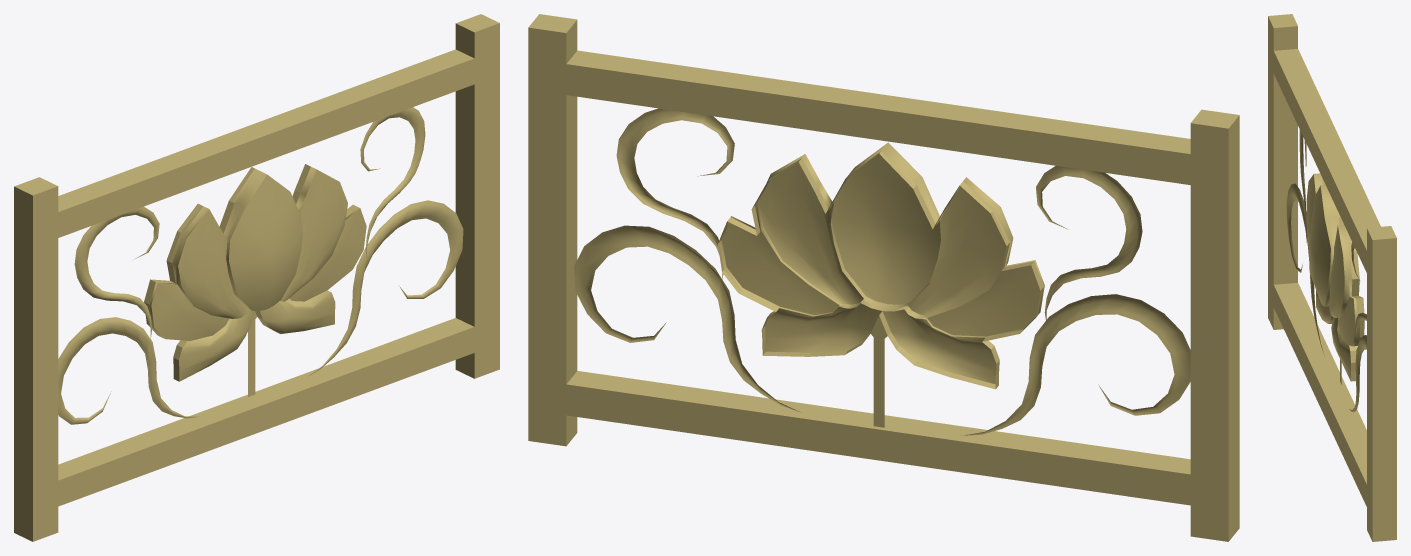
The model's file is wallHeaven.fbx.
3 views of the same model, side by side, from view 1: azimuth 30°, elevation 25°; view 2: azimuth 150°, elevation 25°; view 3: azimuth 270°, elevation 25° (orthographic). The views are drawn at different scales.
Parts seen in each view (by area): view 1: heaven__wall, loutsWall1, pasted__nurbsToPoly3, pasted__pasted__nurbsToPoly3, pasted__pasted__nurbsToPoly4, pasted__nurbsToPoly4; view 2: heaven__wall, loutsWall1, pasted__pasted__nurbsToPoly3, pasted__nurbsToPoly3, pasted__nurbsToPoly4, pasted__pasted__nurbsToPoly4; view 3: heaven__wall, loutsWall1, pasted__pasted__nurbsToPoly3, pasted__nurbsToPoly3, pasted__pasted__nurbsToPoly4, pasted__nurbsToPoly4.
Part boxes in pixels (x1,y1,x2,y2): heaven__wall: [14, 14, 499, 541]; loutsWall1: [144, 164, 366, 396]; pasted__nurbsToPoly3: [308, 200, 463, 376]; pasted__pasted__nurbsToPoly3: [58, 317, 198, 424]; pasted__pasted__nurbsToPoly4: [74, 206, 159, 339]; pasted__nurbsToPoly4: [360, 107, 425, 259]; heaven__wall: [528, 14, 1239, 541]; loutsWall1: [717, 142, 1044, 427]; pasted__pasted__nurbsToPoly3: [961, 294, 1190, 435]; pasted__nurbsToPoly3: [574, 225, 800, 412]; pasted__nurbsToPoly4: [616, 108, 734, 279]; pasted__pasted__nurbsToPoly4: [1036, 166, 1142, 320]; heaven__wall: [1268, 14, 1396, 541]; loutsWall1: [1306, 173, 1364, 384]; pasted__pasted__nurbsToPoly3: [1286, 183, 1323, 353]; pasted__nurbsToPoly3: [1349, 335, 1366, 412]; pasted__pasted__nurbsToPoly4: [1299, 130, 1306, 242]; pasted__nurbsToPoly4: [1351, 242, 1366, 346].
Size of the model in its own units: 88.87 by 55.32 by 21.41.
